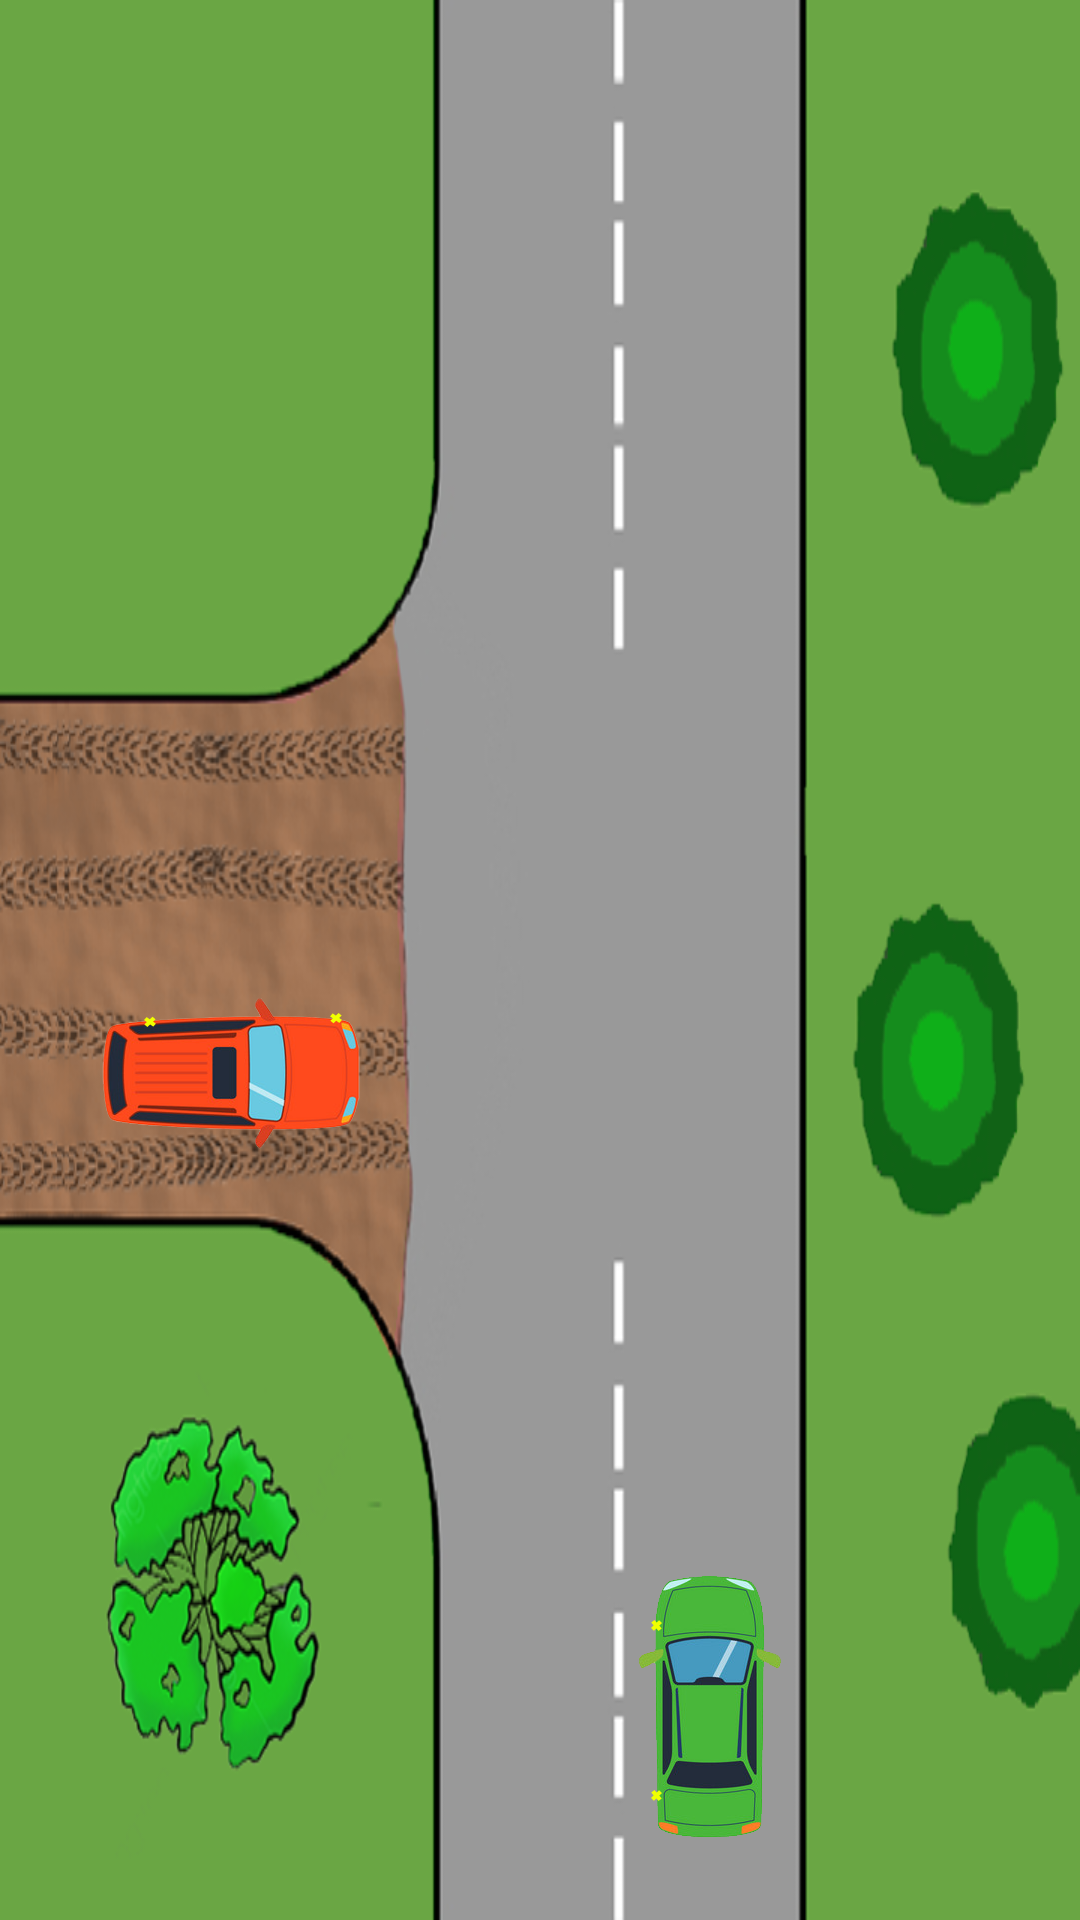

Screen size 1080×1920. Icon name, then its box in pixels as (x1, y1, x2, y2):
carr left to: (96, 999, 366, 1154)
